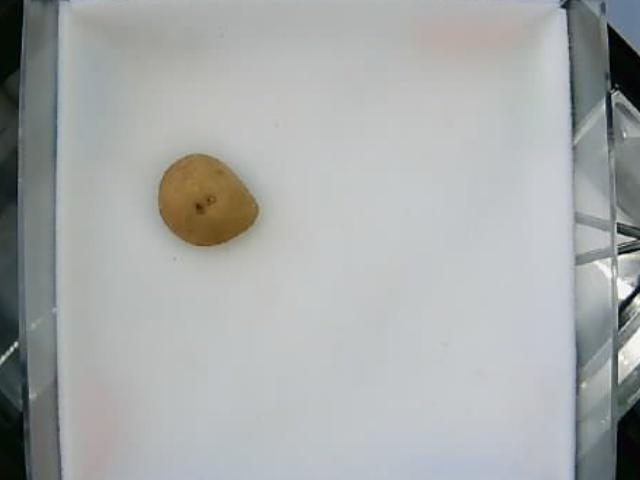Potato: (158, 154, 259, 246)
